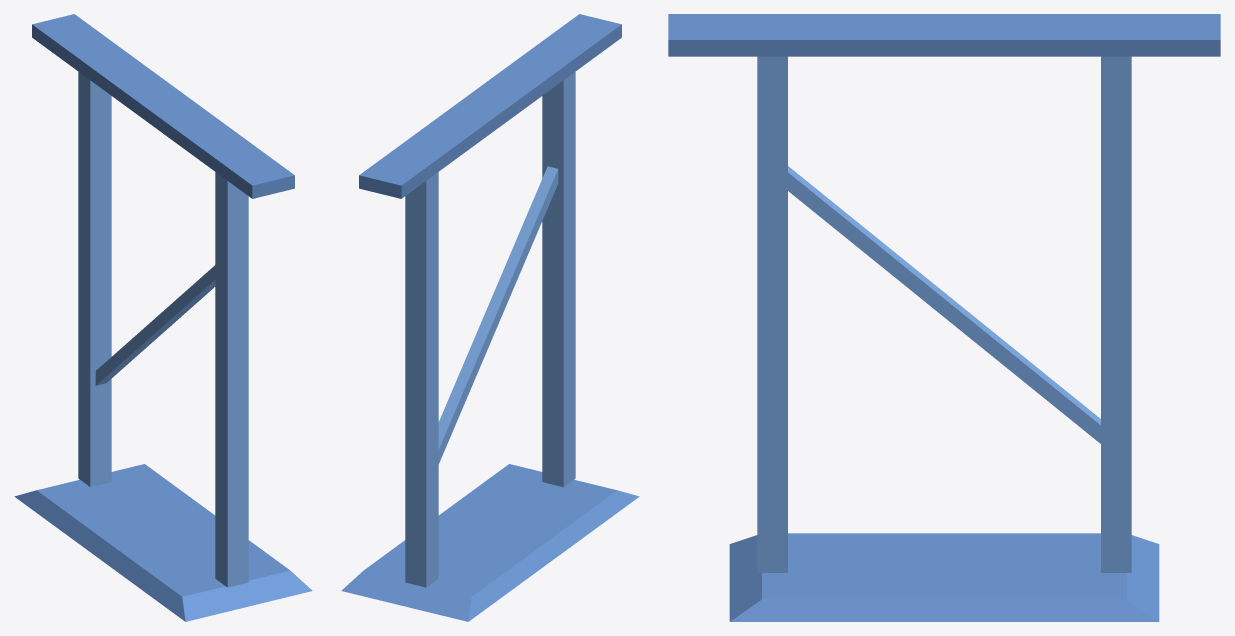
Rendered from trestle.glb.
3 renders of one model, left to right at view 1: azimuth 30°, elevation 25°; view 2: azimuth 150°, elevation 25°; view 3: azimuth 270°, elevation 25°, orthographic. The views are drawn at different scales.
Bounding box in the file's own units: 0.3 × 1 × 0.9.
